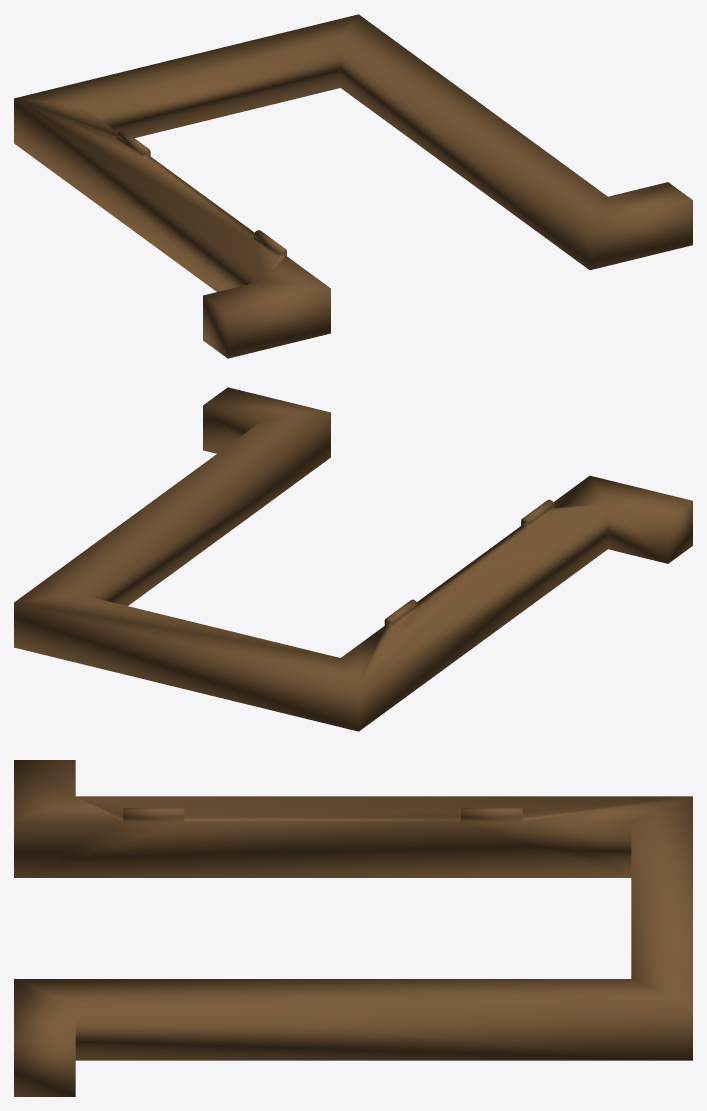
The model's file is frame.dae.
3 renders of one model, top to bottom at view 1: azimuth 30°, elevation 25°; view 2: azimuth 150°, elevation 25°; view 3: azimuth 270°, elevation 25°, orthographic. The views are drawn at different scales.
Visible parts, largest first — view 1: frame; view 2: frame; view 3: frame.
Part boxes in pixels (left/top/right/bottom): frame: left=14, top=14, right=692, bottom=358; frame: left=14, top=387, right=692, bottom=731; frame: left=14, top=760, right=692, bottom=1096.
Bounding box in the file's own units: 0.541 × 0.552 × 0.06.
